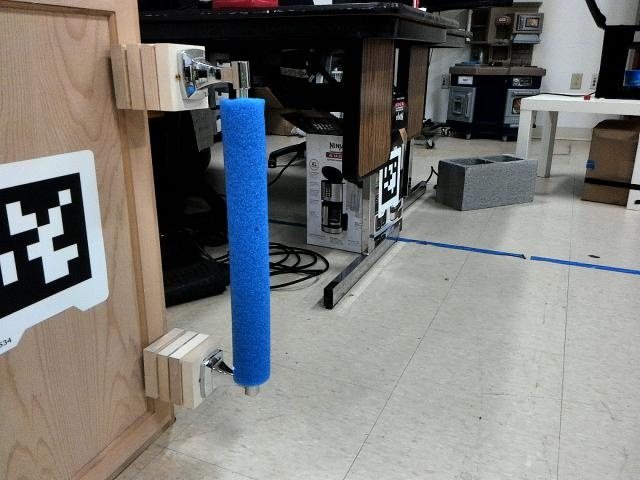noodle_handle: (212, 83, 284, 392)
